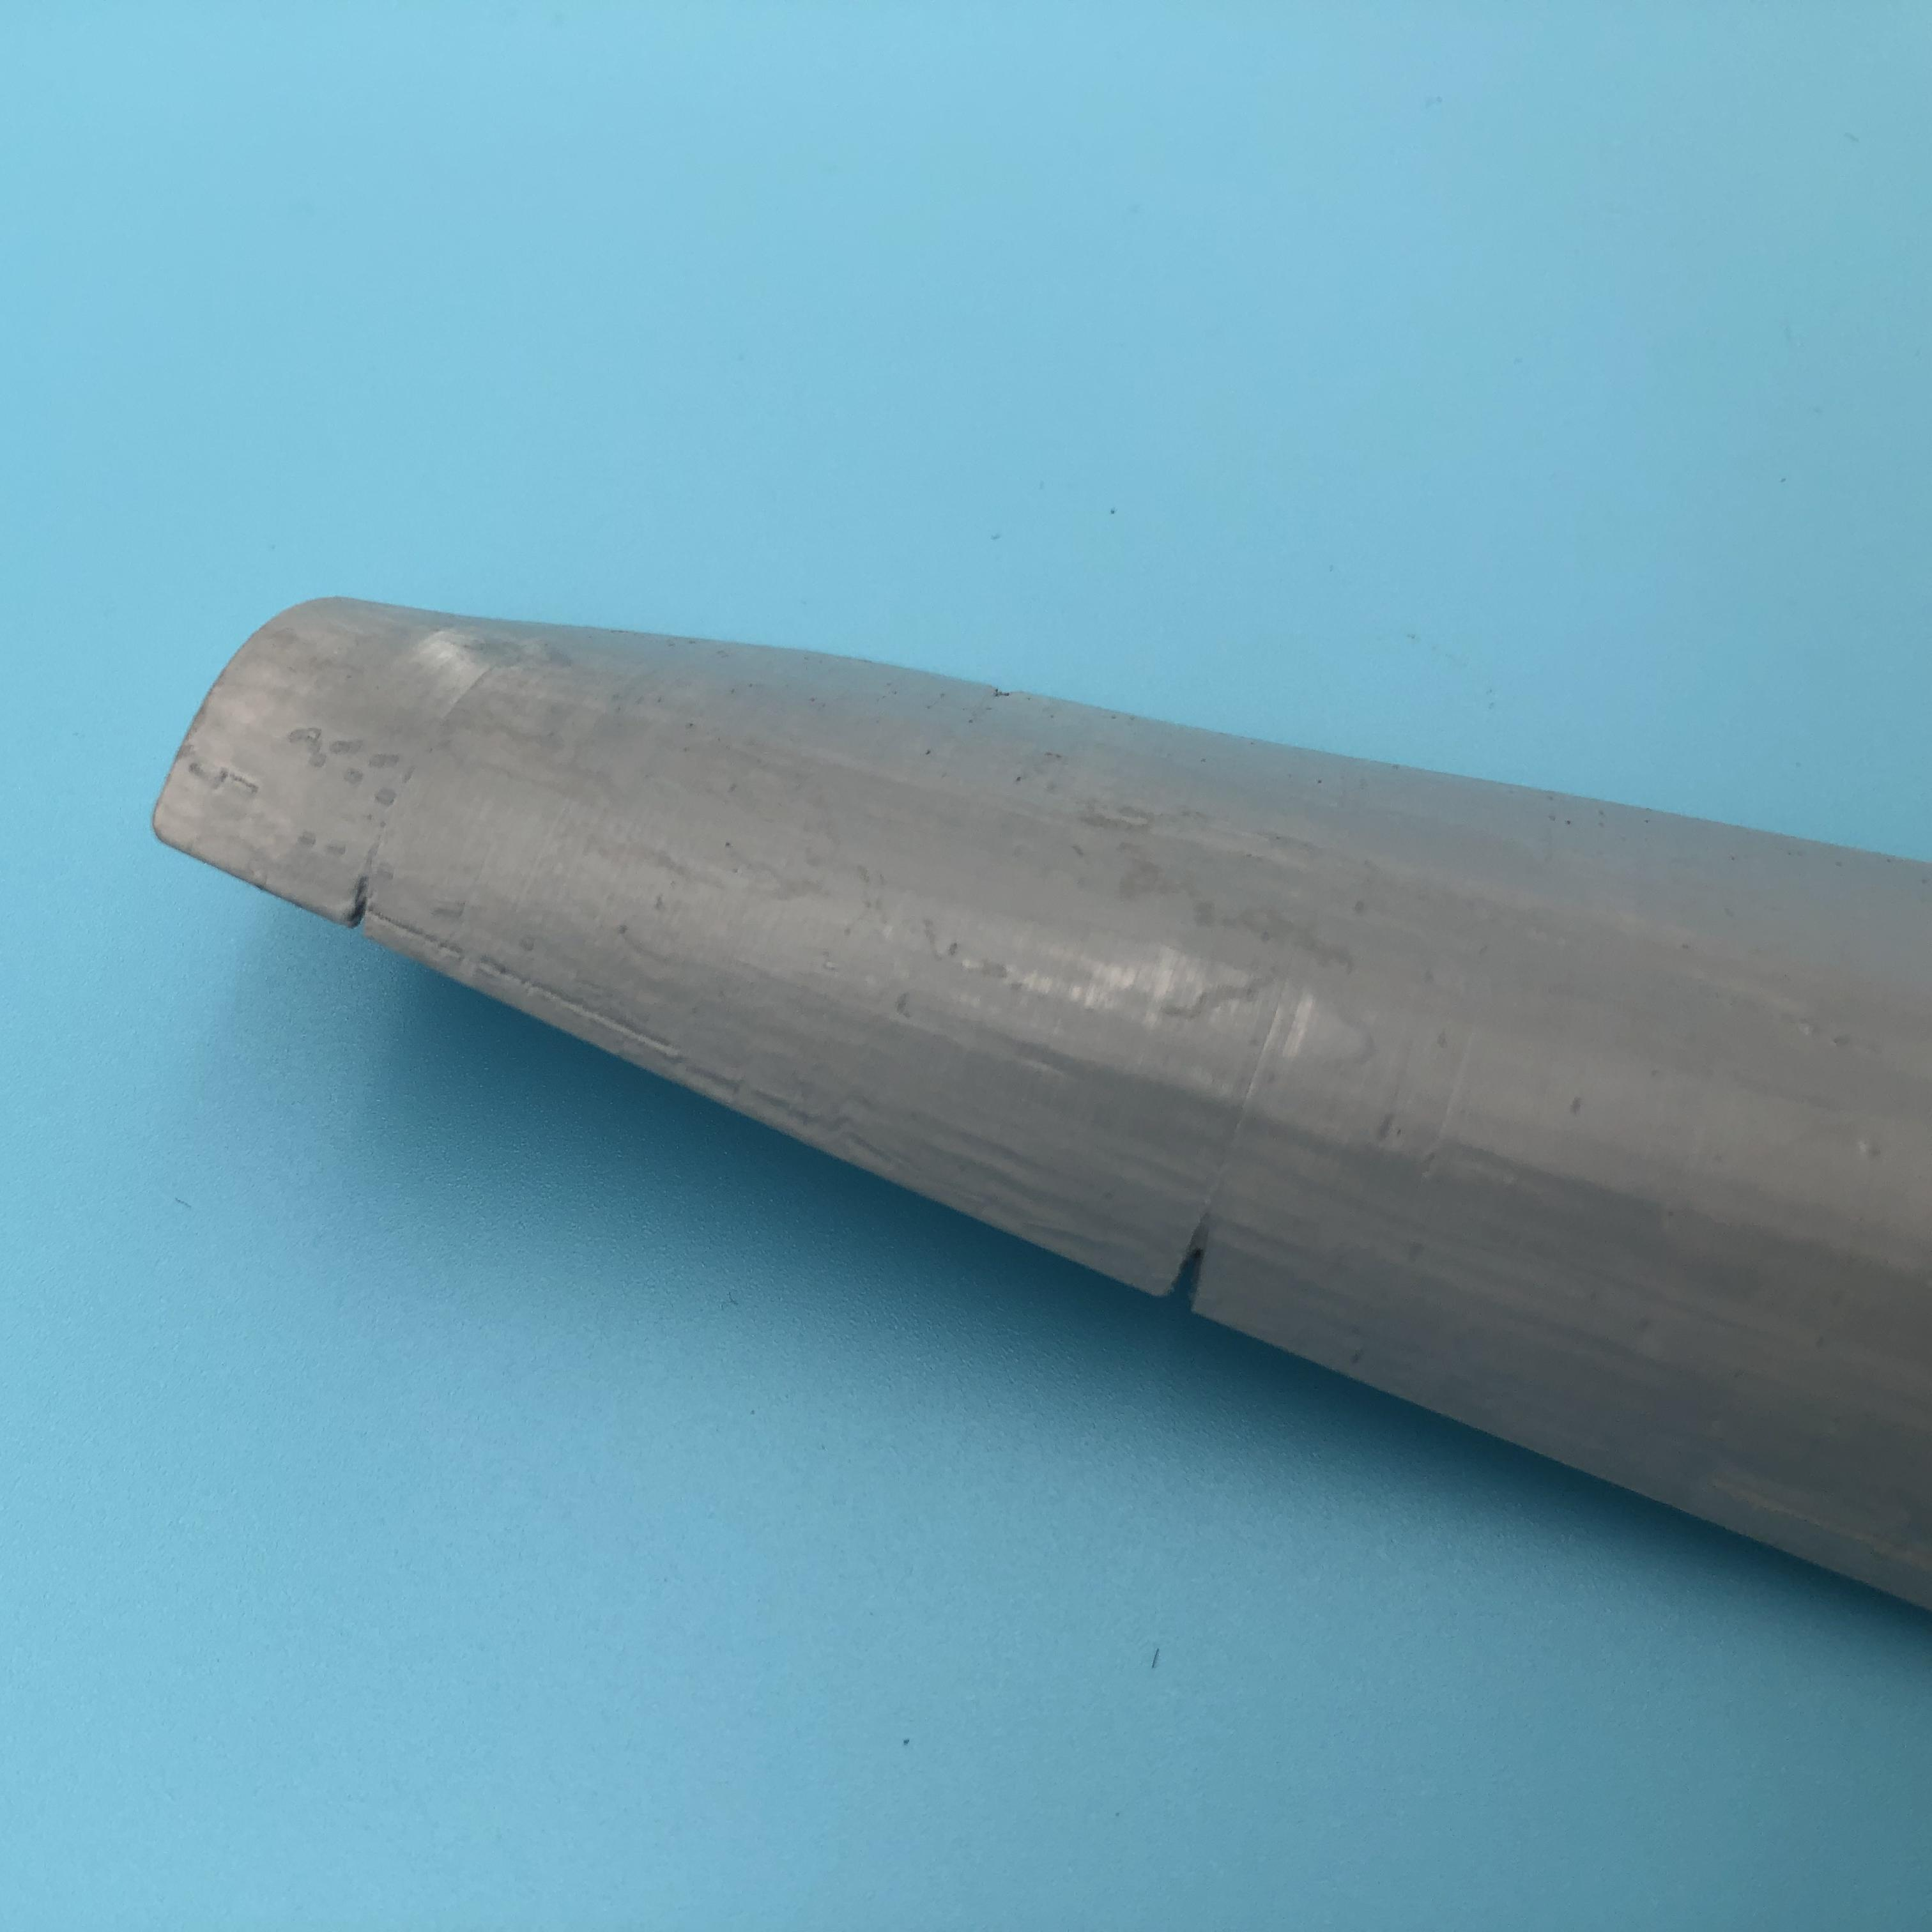groove: (1155, 1207, 1235, 1318), (327, 874, 400, 938)
